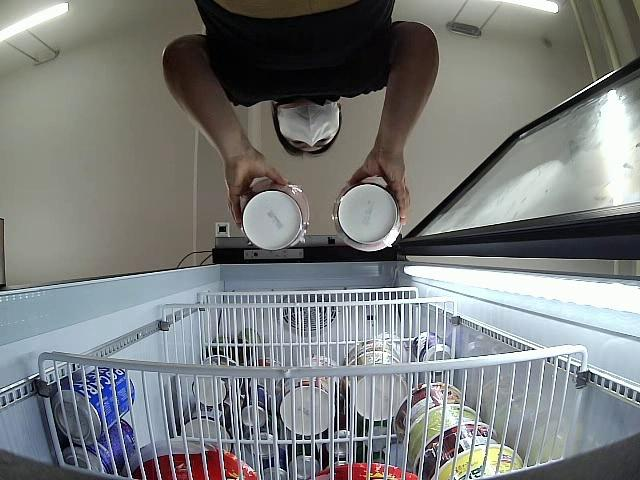00_hand: (223, 147, 291, 230), (347, 151, 411, 227)
01_shinRamen_L: (236, 178, 311, 251), (333, 182, 401, 253)
